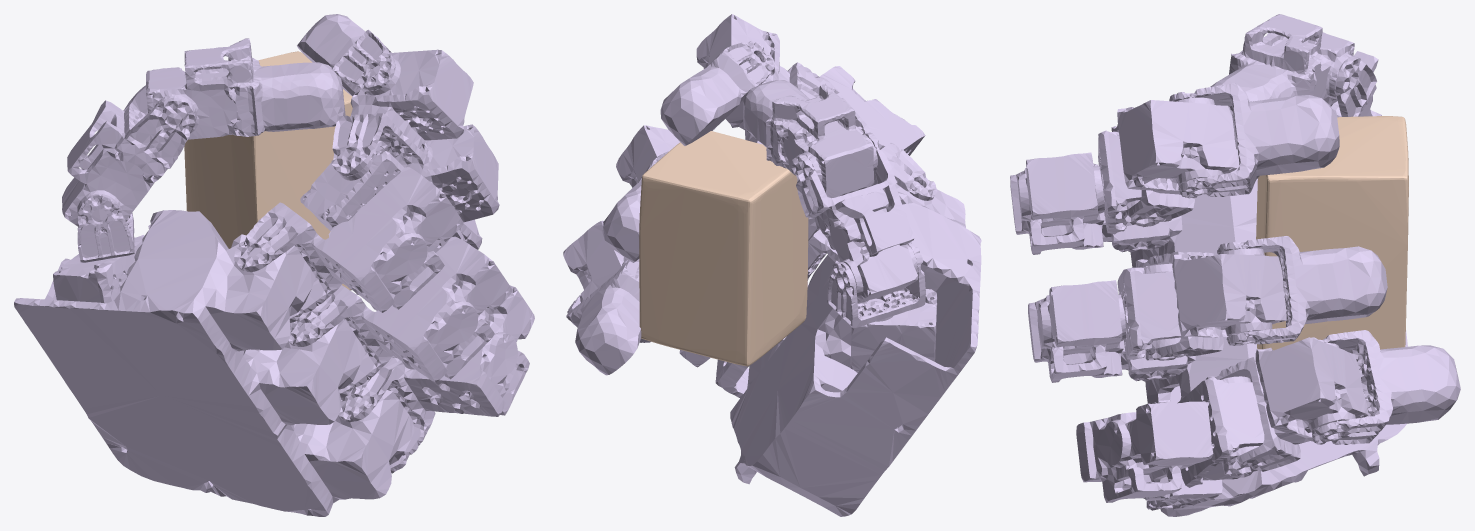
The model's file is ccbe2744d0e17d-closed.glb.
3 views of the same model, side by side, from view 1: azimuth 30°, elevation 25°; view 2: azimuth 150°, elevation 25°; view 3: azimuth 270°, elevation 25° (orthographic). The views are drawn at different scales.
Visible parts, largest first — view 1: LEAP_hand, world; view 2: LEAP_hand, world; view 3: LEAP_hand, world.
Boxes of the visible parts, x1,y1,x2,y2 form: LEAP_hand: (14, 14, 534, 516); world: (184, 51, 352, 290); LEAP_hand: (563, 14, 981, 516); world: (639, 131, 808, 366); LEAP_hand: (1010, 14, 1460, 516); world: (1256, 116, 1408, 350).
Size of the model in its own units: 0.1925 by 0.1819 by 0.1562.
